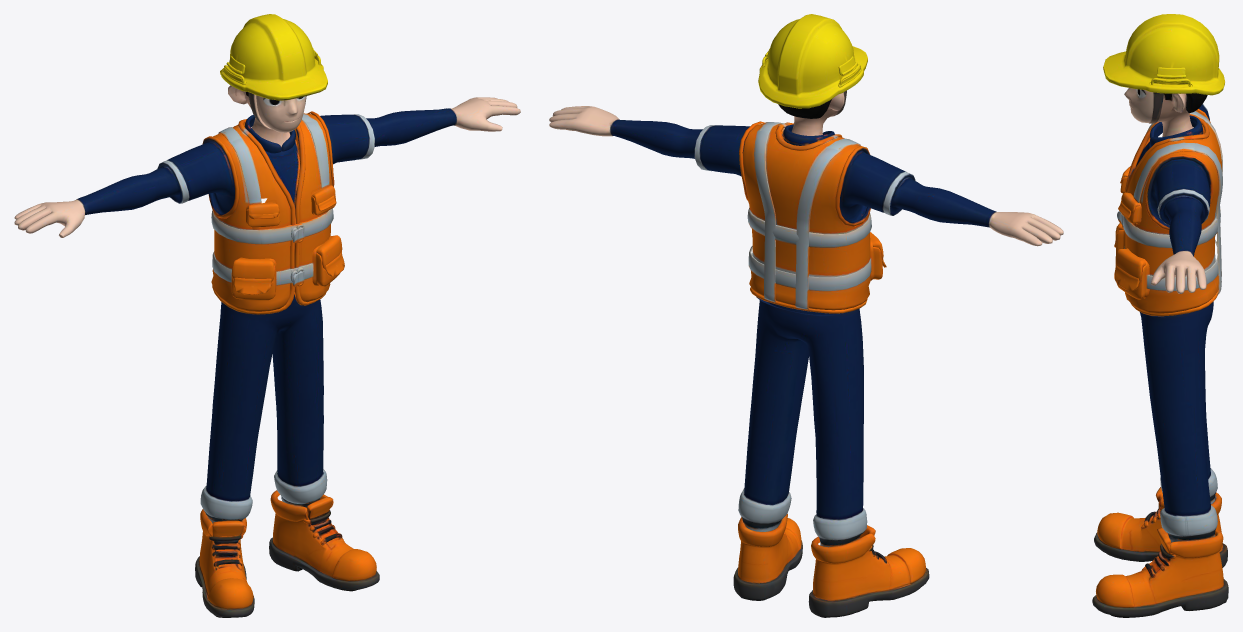
File: toonstudio_construction.glb
3 renders of one model, left to right at view 1: azimuth 30°, elevation 25°; view 2: azimuth 150°, elevation 25°; view 3: azimuth 270°, elevation 25°, orthographic.
Visible parts, largest first — view 1: tripo_34405a63_1e75_46e8_8e13_3d9cb334f9b7; view 2: tripo_34405a63_1e75_46e8_8e13_3d9cb334f9b7; view 3: tripo_34405a63_1e75_46e8_8e13_3d9cb334f9b7.
Part boxes in pixels (<box>): tripo_34405a63_1e75_46e8_8e13_3d9cb334f9b7: <box>14,14,520,617</box>; tripo_34405a63_1e75_46e8_8e13_3d9cb334f9b7: <box>549,14,1063,617</box>; tripo_34405a63_1e75_46e8_8e13_3d9cb334f9b7: <box>1092,14,1228,617</box>.
Size of the model in its own units: 1.59 by 1.7 by 0.3712.
1 material, 1 textured.
